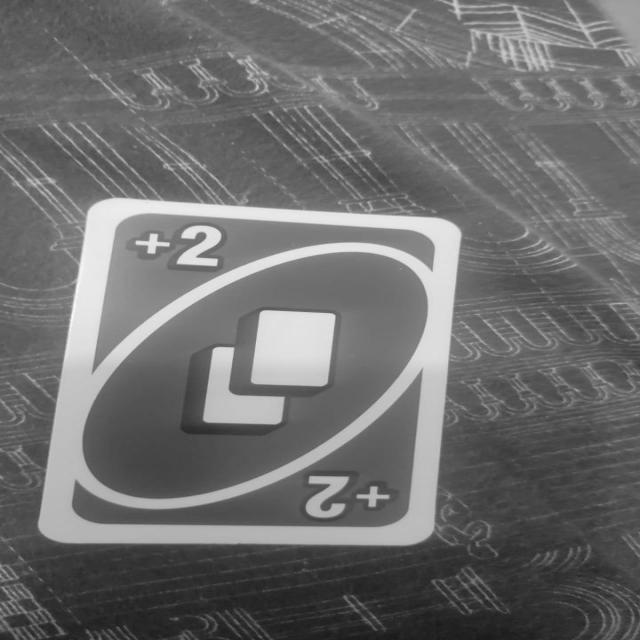card_2-: (36, 197, 462, 547)
